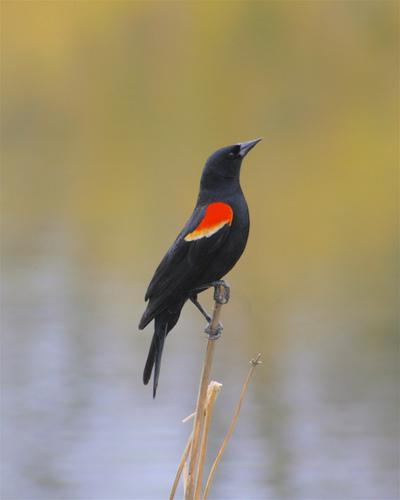010.Red_winged_Blackbird: (131, 138, 266, 401)
